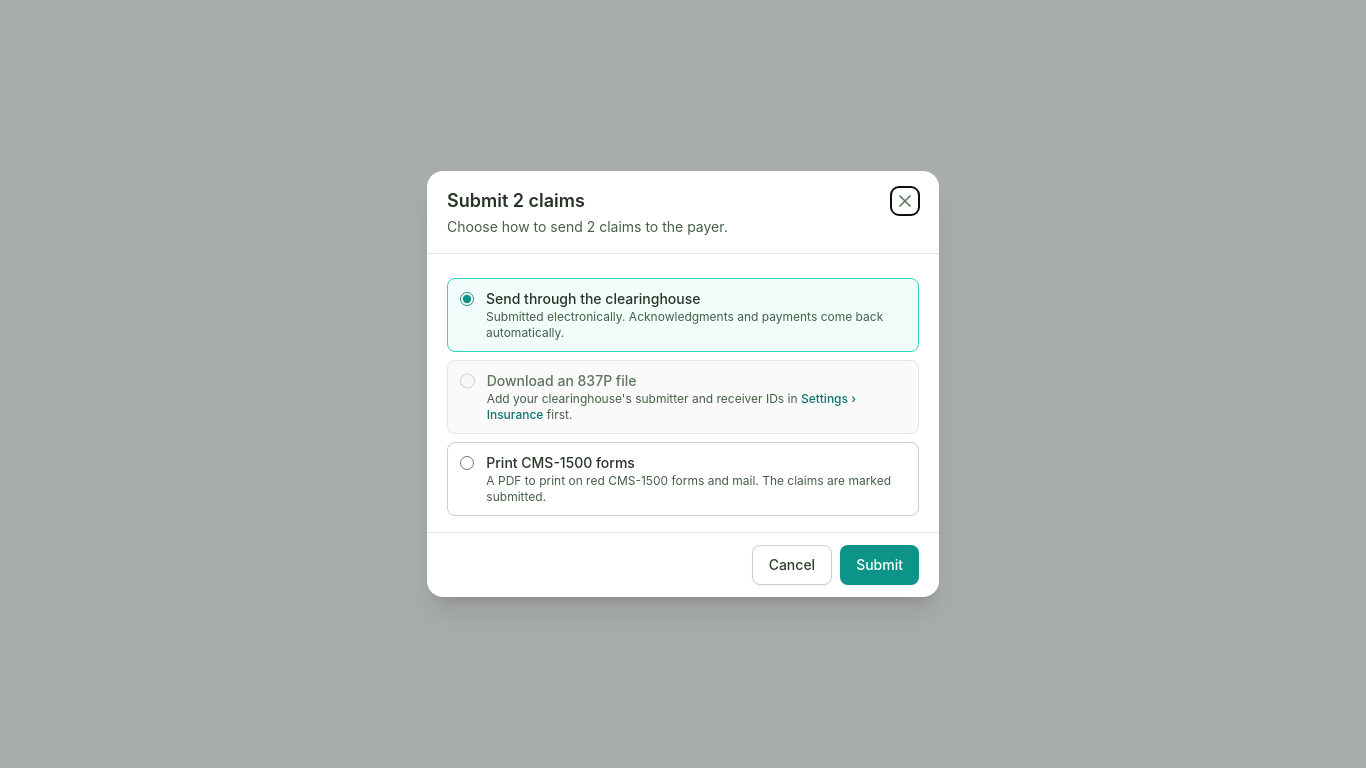
Test: submitting claims › shows each claim’s problems when the API refuses, and submits nothing
The image size is (1366, 768).
Click the button "Submit". click: (880, 565)
box: [840, 545, 919, 585]
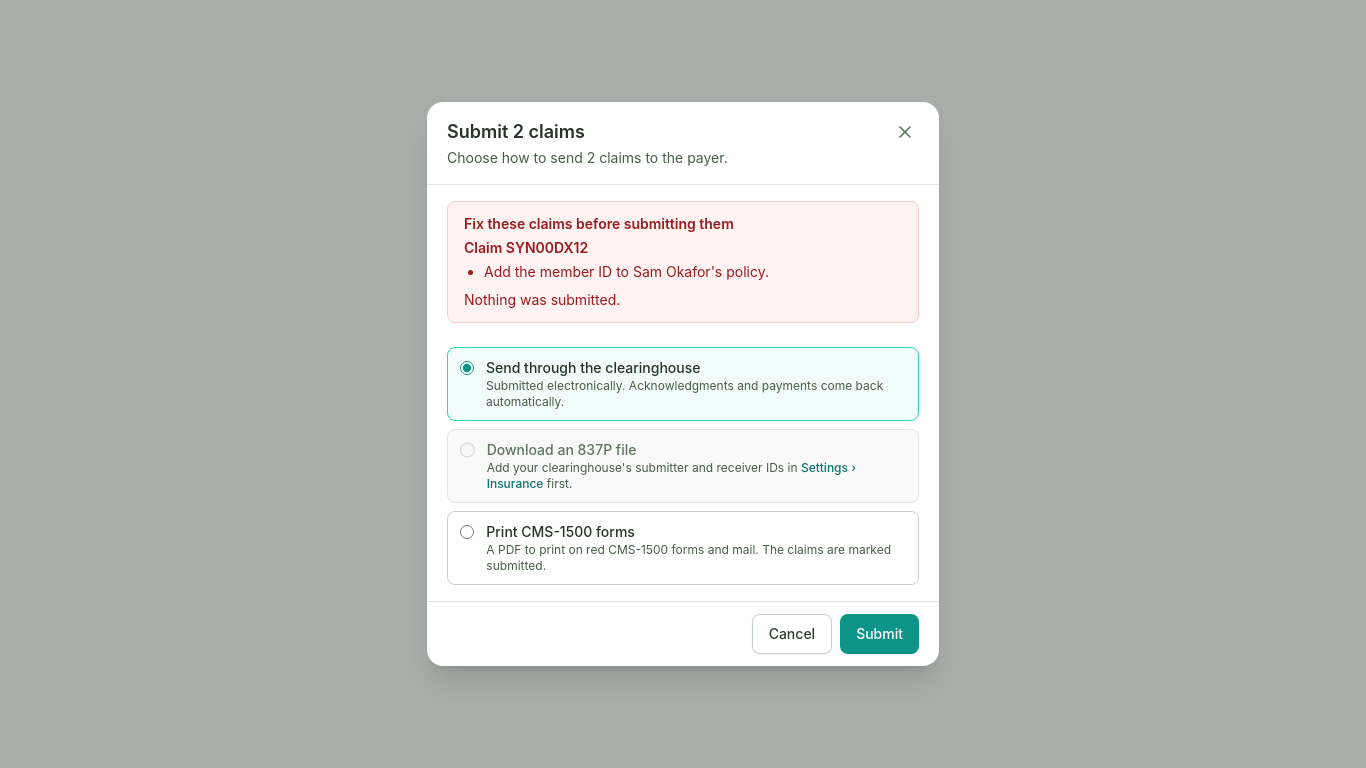
expect the list item "Add the member ID to Sam Okafor's policy." is shown: met, box [484, 263, 769, 280]
expect the text "Nothing was submitted." is shown: met, box [464, 291, 620, 308]
